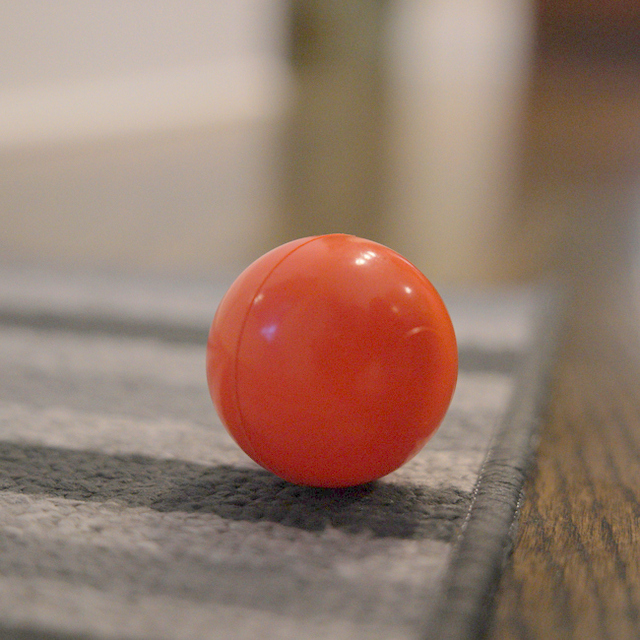Ball: (211, 233, 458, 484)
